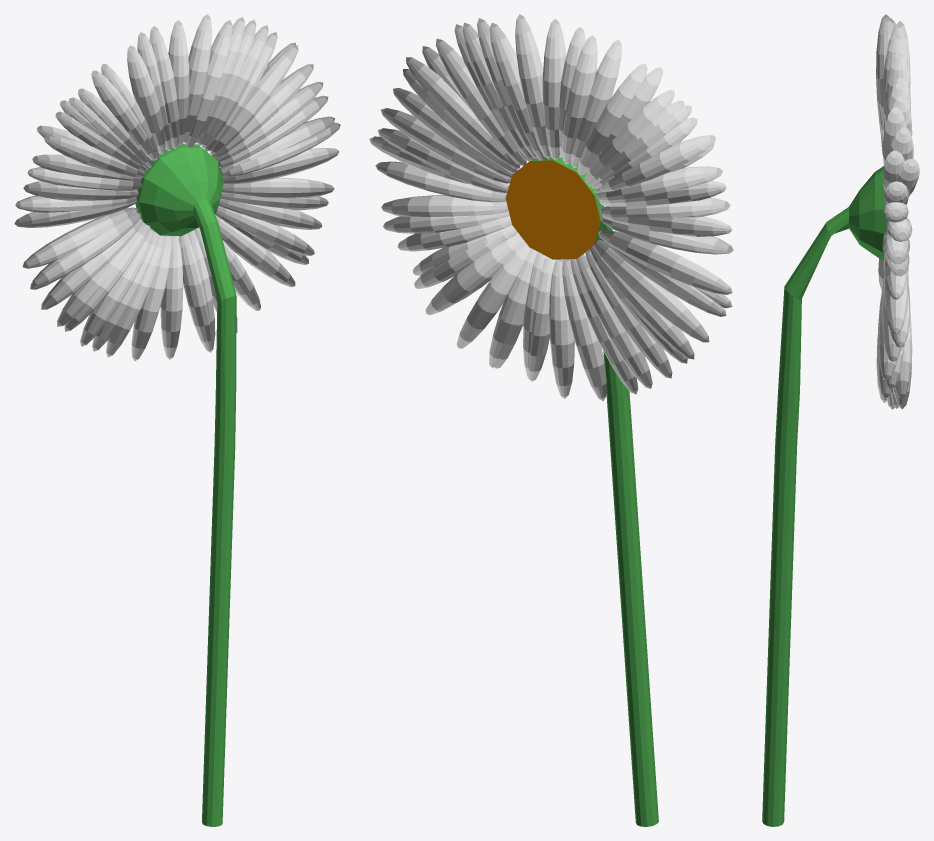
The model's file is daisy.dae.
The picture shows the model from 3 angles, left to right: view 1: azimuth 30°, elevation 25°; view 2: azimuth 150°, elevation 25°; view 3: azimuth 270°, elevation 25°; orthographic projection. The views are drawn at different scales.
Visible parts, largest first — view 1: daisy; view 2: daisy; view 3: daisy.
Boxes of the visible parts, x1,y1,x2,y2 form: daisy: (14,14,340,826); daisy: (369,14,733,826); daisy: (762,14,919,826).
Bounding box in the file's own units: 1.88 × 0.7431 × 4.17.
